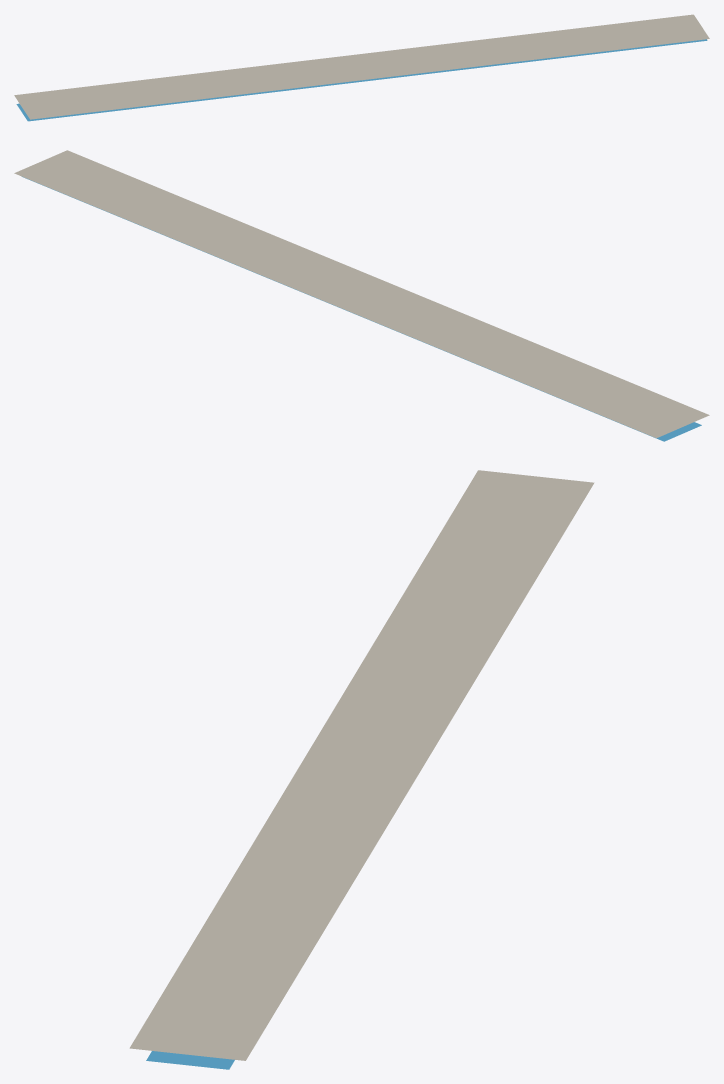
3 renders of one model, top to bottom at view 1: azimuth 30°, elevation 25°; view 2: azimuth 150°, elevation 25°; view 3: azimuth 270°, elevation 25°, orthographic. The views are drawn at different scales.
Parts seen in each view (by area): view 1: estructura_terreno, estructura_agua; view 2: estructura_terreno, estructura_agua; view 3: estructura_terreno, estructura_agua.
Boxes of the visible parts, box(x1,y1,x2,y2) form: estructura_terreno: box(14, 14, 709, 119); estructura_agua: box(16, 39, 707, 121); estructura_terreno: box(14, 150, 709, 438); estructura_agua: box(22, 176, 701, 441); estructura_terreno: box(129, 470, 594, 1060); estructura_agua: box(146, 1051, 234, 1069).
Bounding box in the file's own units: 48.86 × 0.41 × 16.26.
